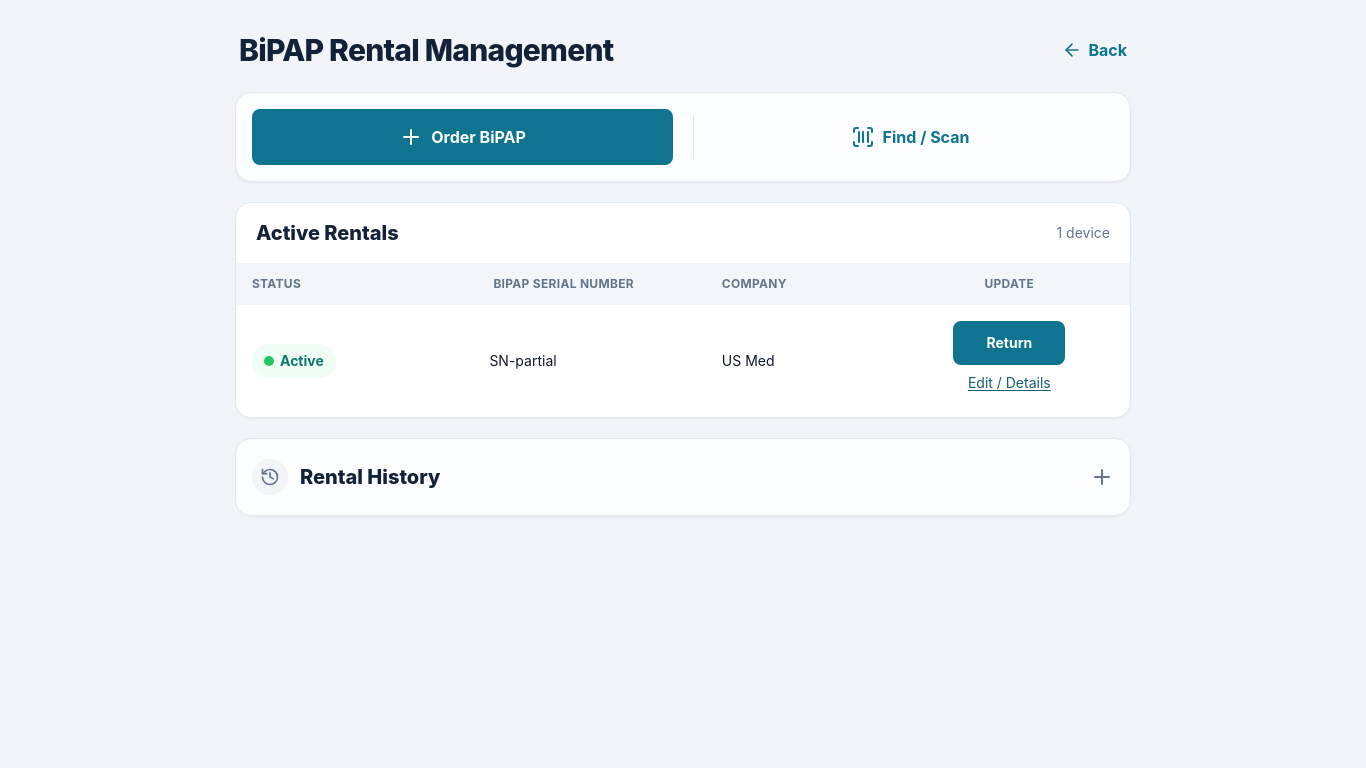
Scenario: single rental list › validates a partially filled optional section
Check: the button with aria-label "+ Order BiPAP" is enabled, box [252,109,673,165]
Click the button "Return" at (1009, 343), box [953,321,1065,365]
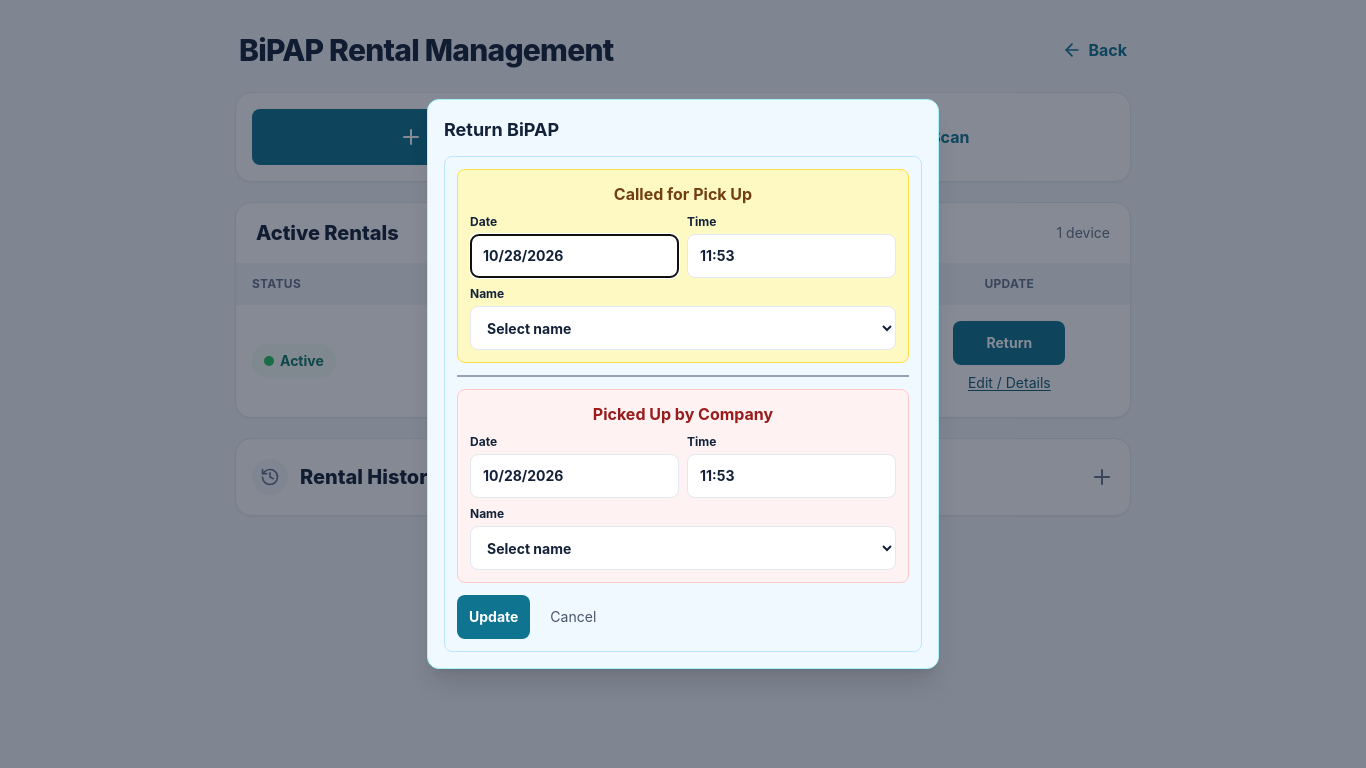
Replace the text in the field labelled "Time" below "Picked Up by Company" with "25:00" at (792, 476), box [687,454,896,498]
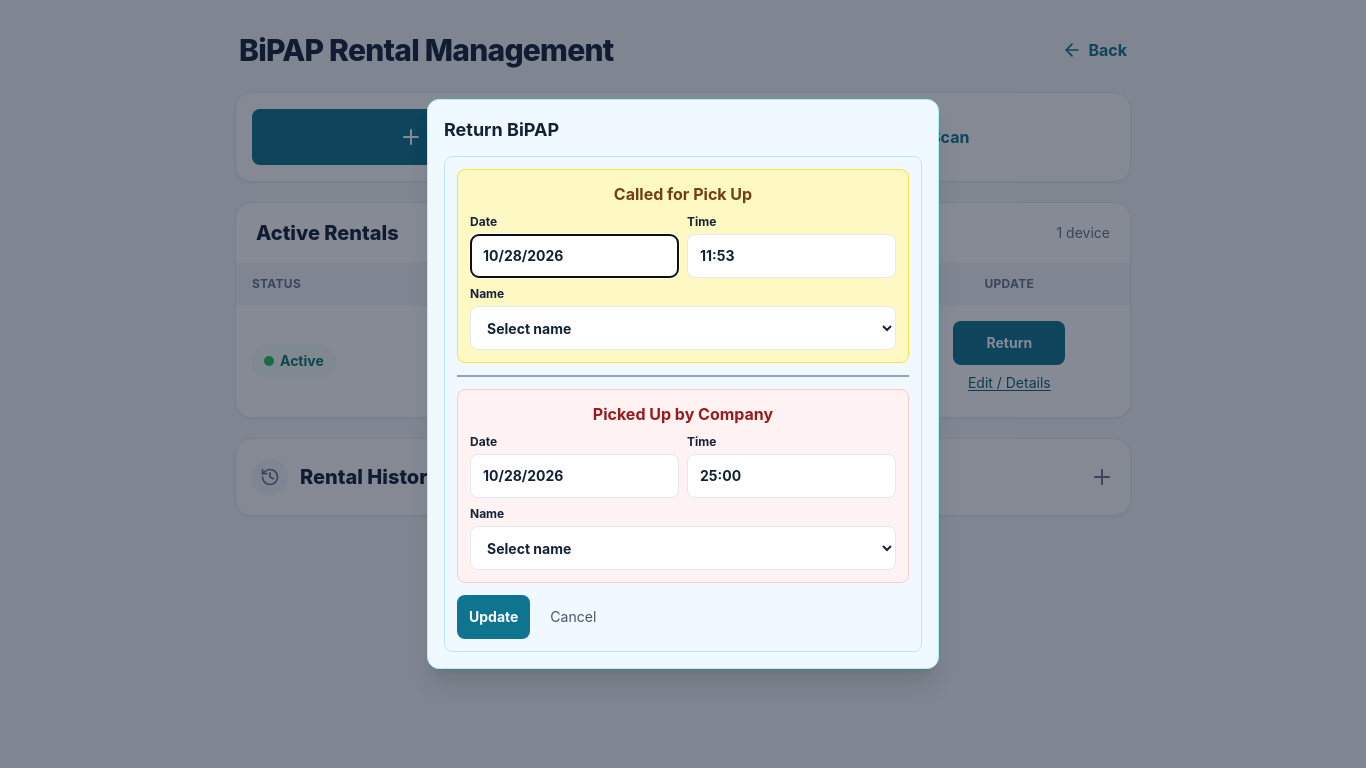
Click the button "Update" at (494, 617), box [457,595,530,639]
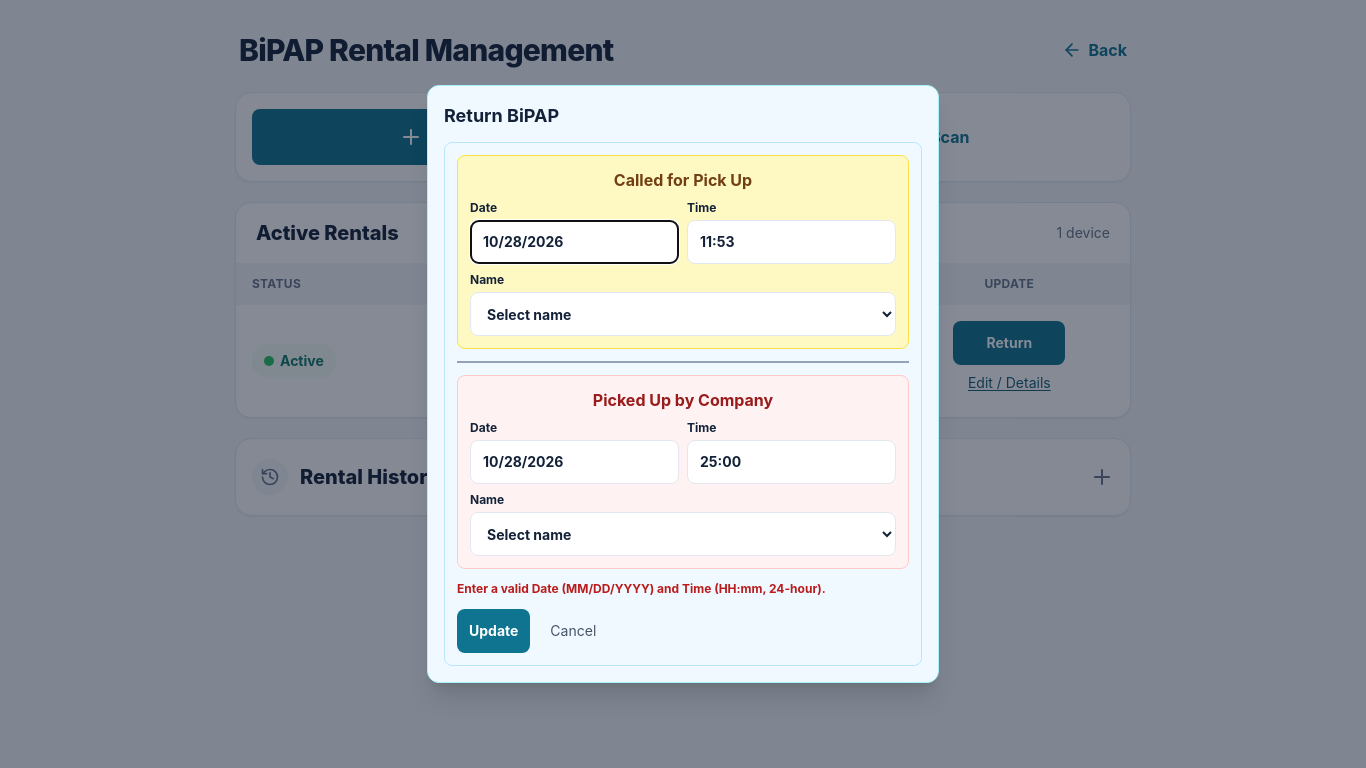
Check: the message shows "valid Date", box [457,581,826,596]
